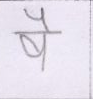ai_matra: (24, 8, 54, 31)
